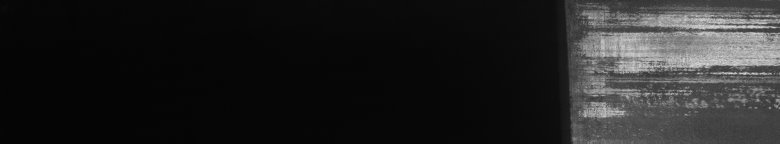kb: (580, 7, 776, 124)
